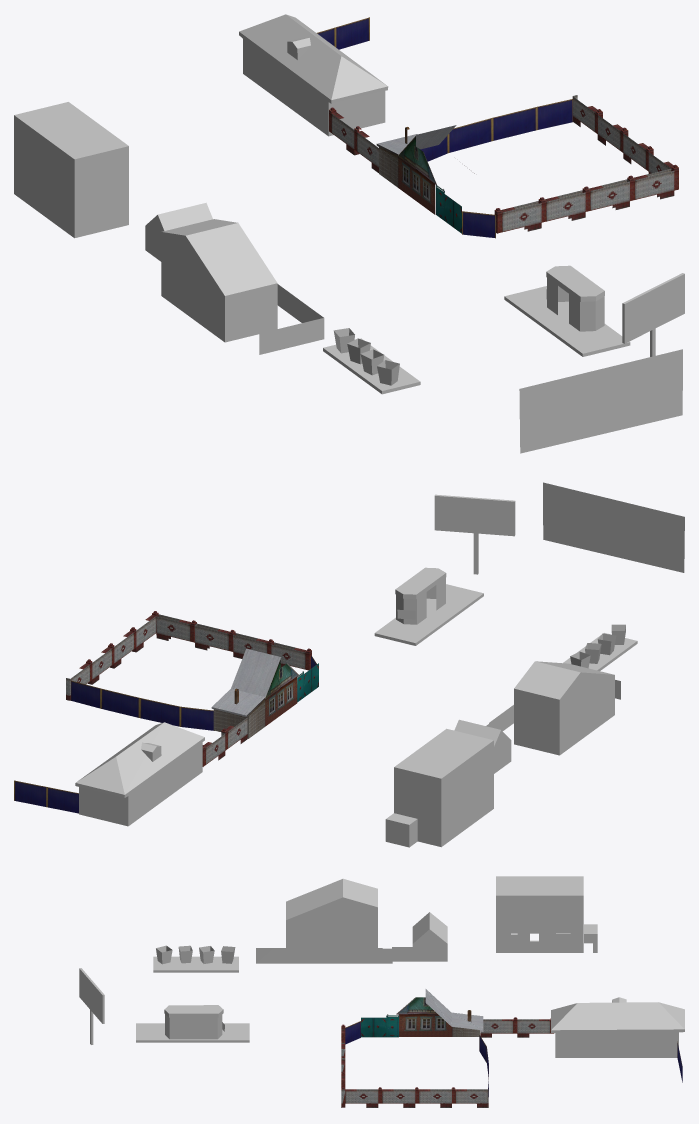
Rendered from area6.FBX.
The picture shows the model from 3 angles, top to bottom: view 1: azimuth 30°, elevation 25°; view 2: azimuth 150°, elevation 25°; view 3: azimuth 270°, elevation 25°; orthographic projection. The views are drawn at different scales.
Parts seen in each view (by area): view 1: house7, house8, Kazan, yellowHouse, zabor4, ostanovka, zabor3, terem3, bin, adv, fence3, vorota; view 2: house8, house7, Kazan, yellowHouse, zabor4, terem3, zabor3, ostanovka, adv, bin, vorota; view 3: house7, yellowHouse, house8, zabor4, ostanovka, terem3, fence3, bin, adv, vorota, zabor3.
Boxes of the visible parts, x1,y1,x2,y2 form: house7: (145, 202, 277, 342); house8: (14, 102, 128, 238); Kazan: (519, 349, 682, 453); yellowHouse: (239, 14, 388, 136); zabor4: (329, 95, 678, 233); ostanovka: (504, 265, 630, 356); zabor3: (317, 17, 572, 238); terem3: (376, 125, 474, 214); bin: (323, 328, 420, 394); adv: (622, 273, 684, 356); fence3: (259, 284, 324, 354); vorota: (436, 185, 461, 233); house8: (385, 728, 493, 847); house7: (454, 661, 614, 773); Kazan: (543, 482, 684, 572); yellowHouse: (75, 722, 204, 826); zabor4: (66, 611, 311, 766); terem3: (211, 648, 298, 738); zabor3: (14, 655, 316, 813); ostanovka: (374, 567, 483, 645); adv: (434, 494, 515, 574); bin: (563, 624, 637, 670); vorota: (297, 663, 318, 702); house7: (286, 878, 447, 961); yellowHouse: (551, 997, 684, 1057); house8: (496, 876, 597, 952); zabor4: (341, 1017, 554, 1107); ostanovka: (136, 1005, 249, 1042); terem3: (396, 989, 483, 1036); fence3: (256, 947, 412, 963); bin: (153, 945, 238, 972); adv: (79, 968, 104, 1044); vorota: (361, 1014, 398, 1037); zabor3: (345, 1021, 682, 1107).
Bounding box in the file's own units: 6243 × 1043 × 10050.
